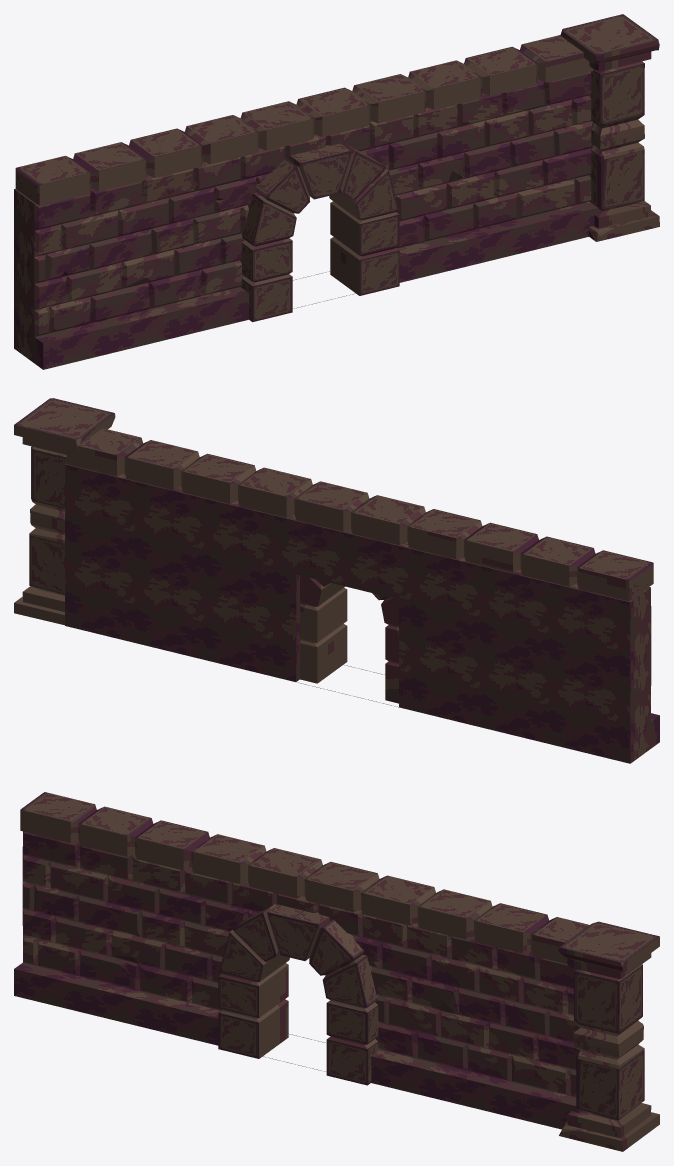
File: brick_wall_opened_comp_2.fbx
3 views of the same model, one above another, from view 1: azimuth 30°, elevation 25°; view 2: azimuth 150°, elevation 25°; view 3: azimuth 330°, elevation 25° (orthographic).
Visible parts, largest first — view 1: Pillar.003; view 2: Pillar.003; view 3: Pillar.003.
Boxes of the visible parts, left/top/right/bottom form: Pillar.003: left=14, top=14, right=659, bottom=369; Pillar.003: left=14, top=398, right=659, bottom=763; Pillar.003: left=14, top=792, right=659, bottom=1151.
Size of the model in its own units: 2400 by 702 by 252.
2 materials, 2 textured.
